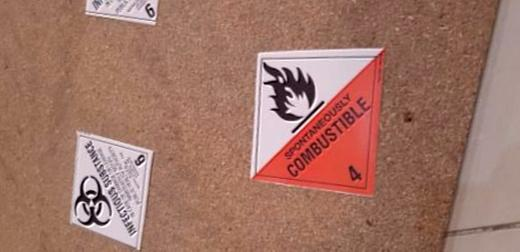infectious-substance: (58, 131, 162, 252), (79, 1, 162, 31)
spontaneously-combustible: (242, 50, 383, 196)
